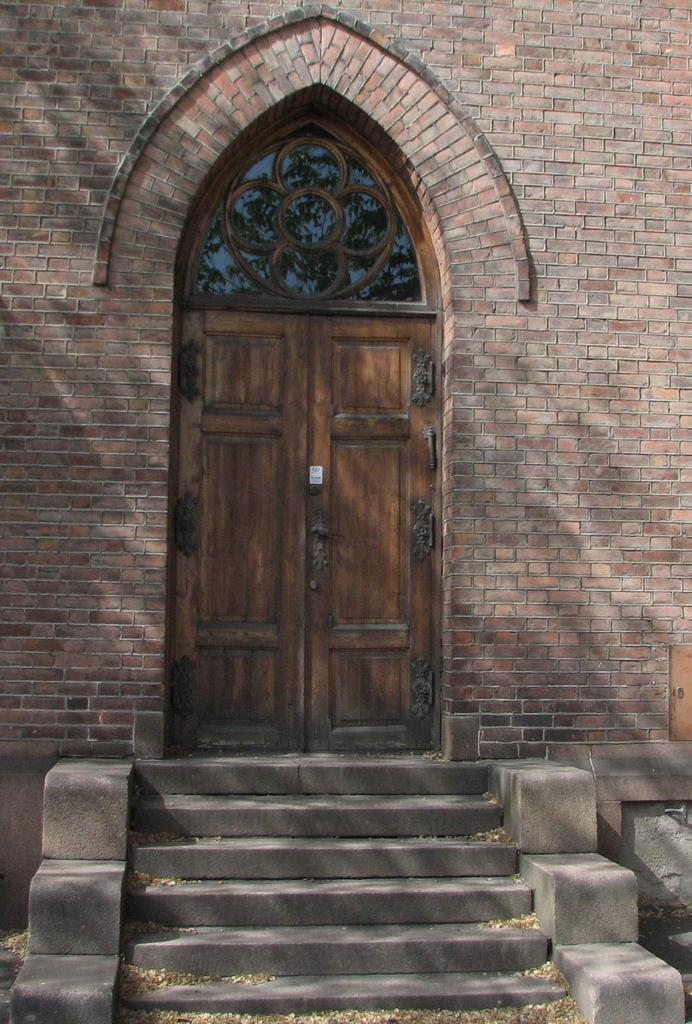door: (186, 320, 308, 725), (312, 320, 426, 747)
handle: (311, 526, 330, 550)
